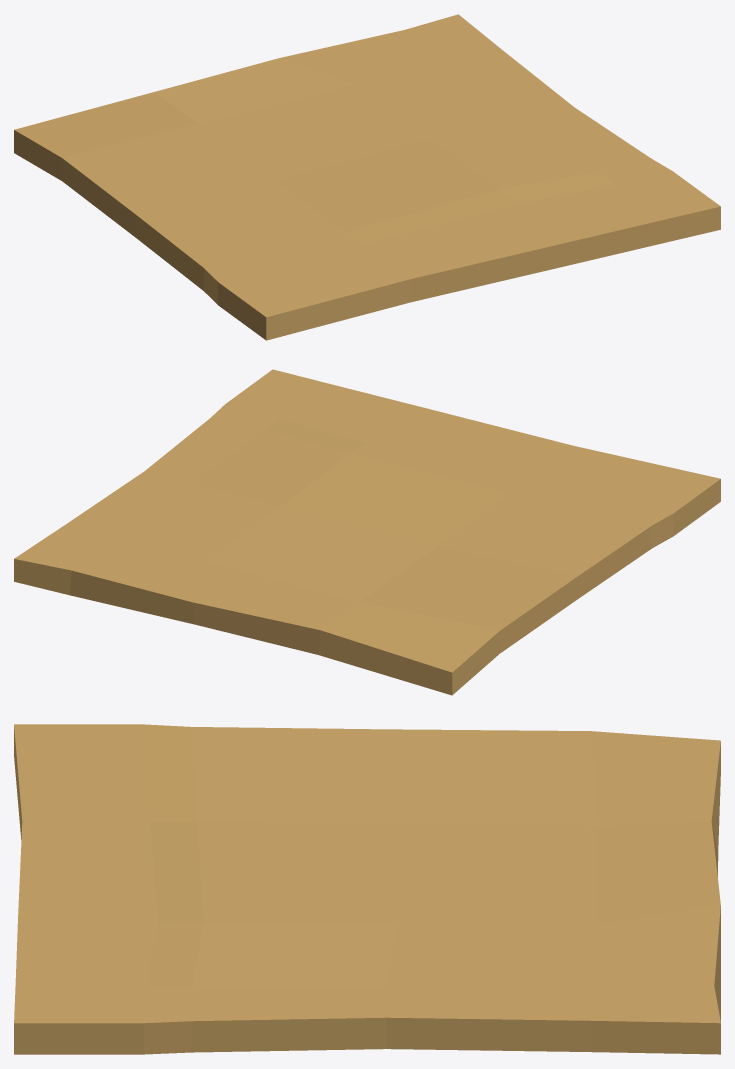
The model's file is Wood_plane.fbx.
The picture shows the model from 3 angles, top to bottom: view 1: azimuth 30°, elevation 25°; view 2: azimuth 150°, elevation 25°; view 3: azimuth 270°, elevation 25°; orthographic projection. The views are drawn at different scales.
Parts seen in each view (by area): view 1: Wood_plane; view 2: Wood_plane; view 3: Wood_plane.
Boxes of the visible parts, x1,y1,x2,y2 form: Wood_plane: (14,14,720,340); Wood_plane: (14,369,720,695); Wood_plane: (14,724,720,1054).
Bounding box in the file's own units: 382 × 26.19 × 382.
